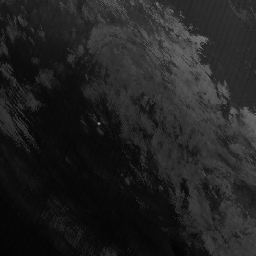Target: (95, 120, 101, 127)
